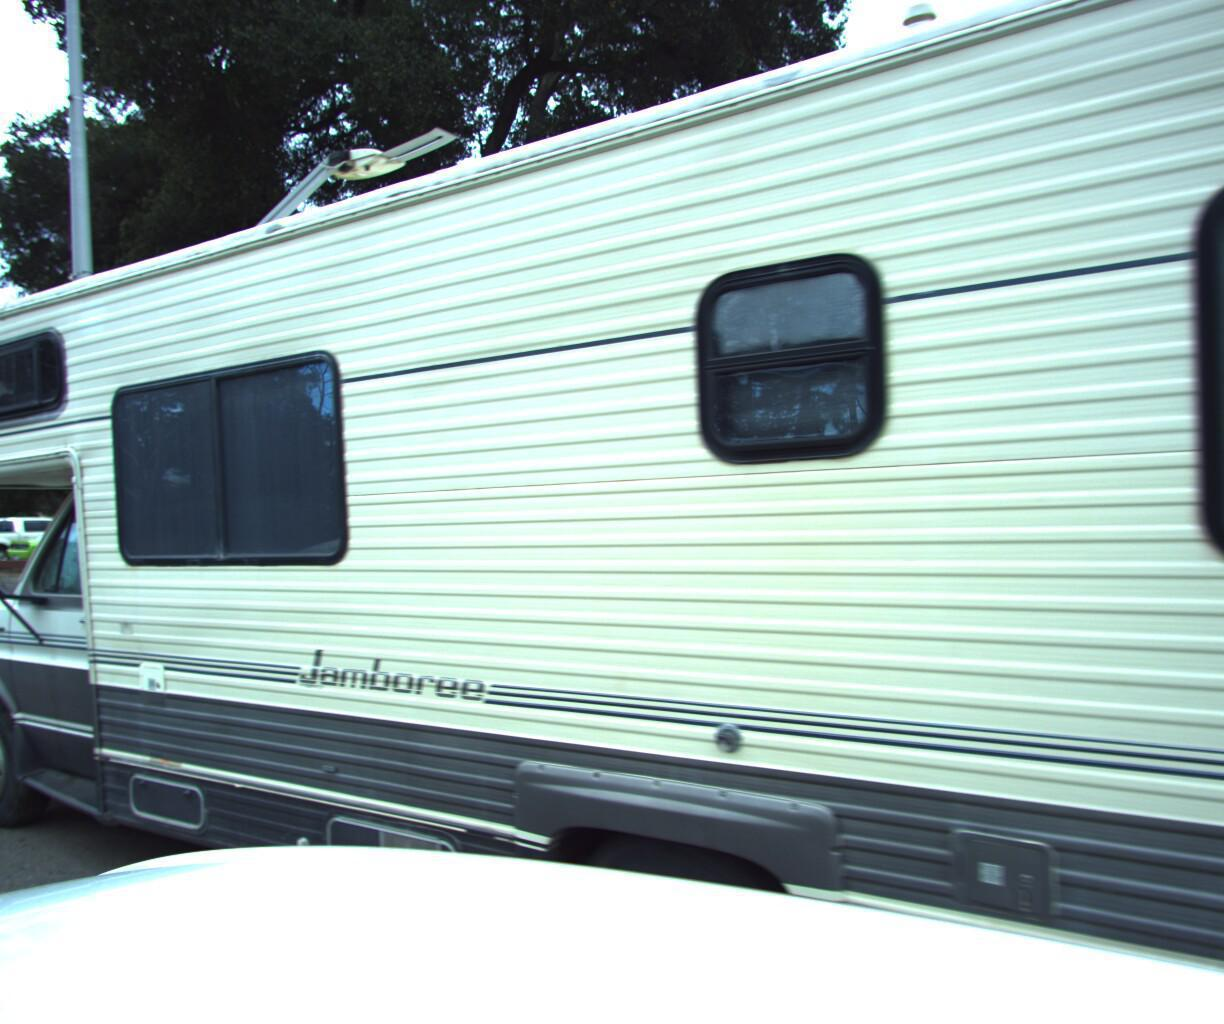car: (0, 554, 116, 823)
other_vehicle: (0, 0, 1224, 1024)
